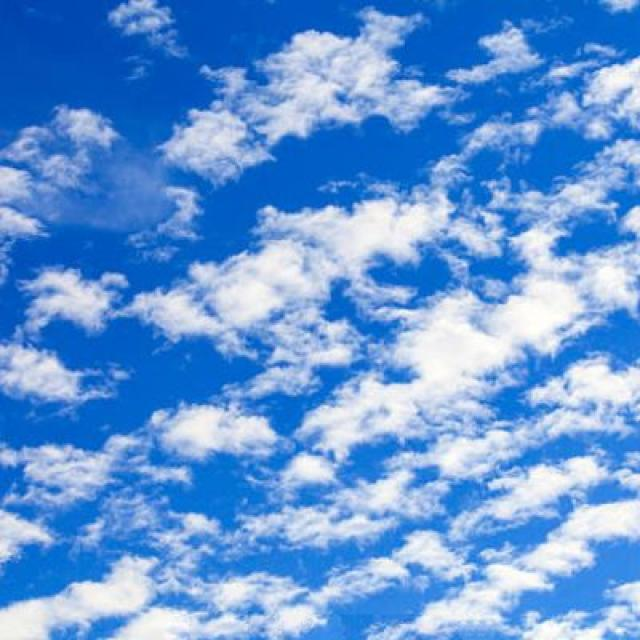Cc: (127, 133, 622, 562)
